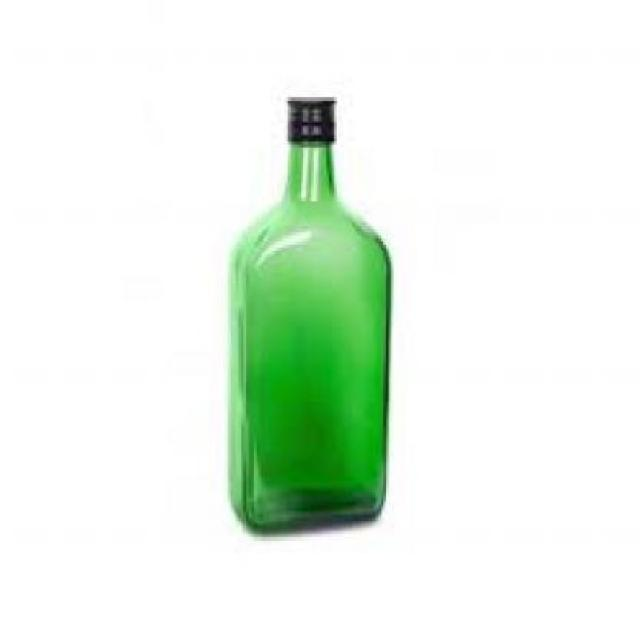GLASS: (225, 138, 388, 530)
METAL: (285, 94, 332, 141)
